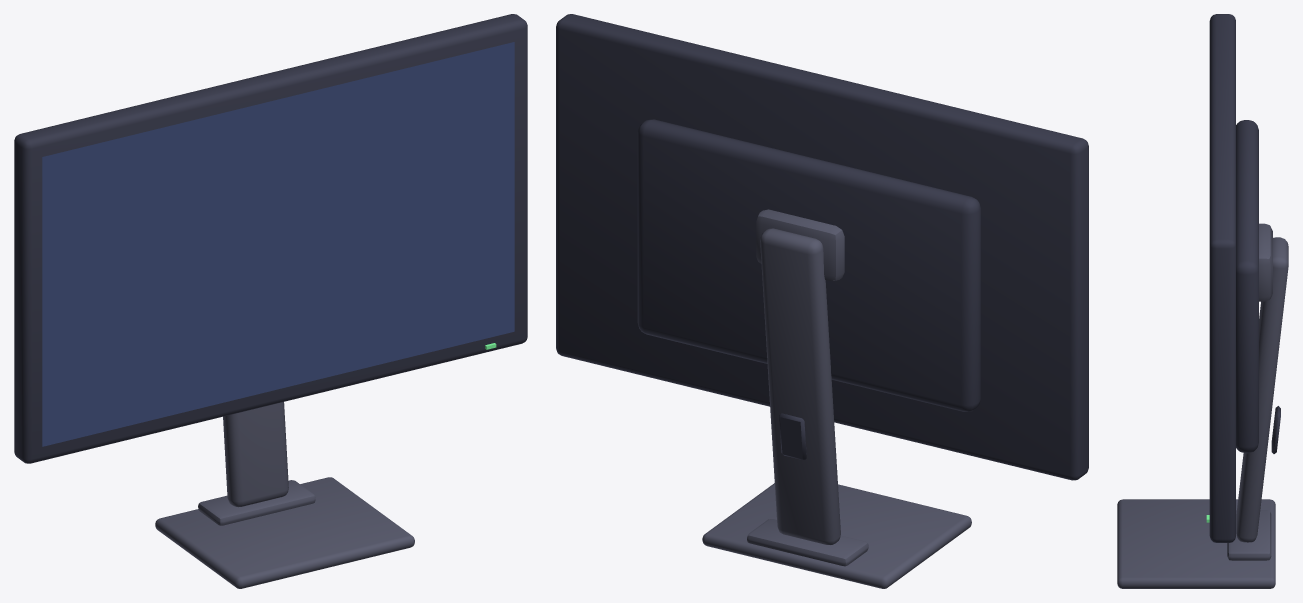
Rendered from monitor.glb.
The picture shows the model from 3 angles, left to right: view 1: azimuth 30°, elevation 25°; view 2: azimuth 150°, elevation 25°; view 3: azimuth 270°, elevation 25°; orthographic projection. The views are drawn at different scales.
Visible parts, largest first — view 1: screen, charcoal, slate; view 2: charcoal, slate; view 3: charcoal, slate.
Boxes of the visible parts, x1,y1,x2,y2 form: screen: (42, 42, 514, 446); charcoal: (14, 14, 527, 463); slate: (155, 402, 414, 588); charcoal: (556, 14, 1088, 480); slate: (702, 209, 971, 588); charcoal: (1209, 14, 1280, 542); slate: (1117, 223, 1288, 588).
Bounding box in the file's own units: 0.62 × 0.53 × 0.1947.
